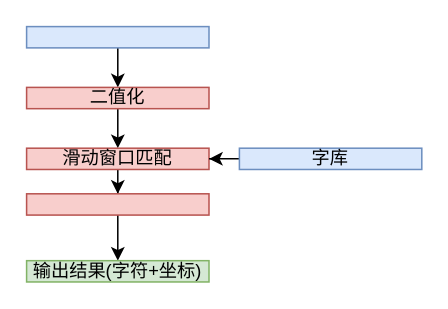
Image size: 448x309. Some labels were removed from this diagram. The box of each missing label's shape, as (x1, y1, x2, y2) in pixels:
排序结果: (25, 192, 209, 215)
输入图片: (25, 25, 209, 48)
